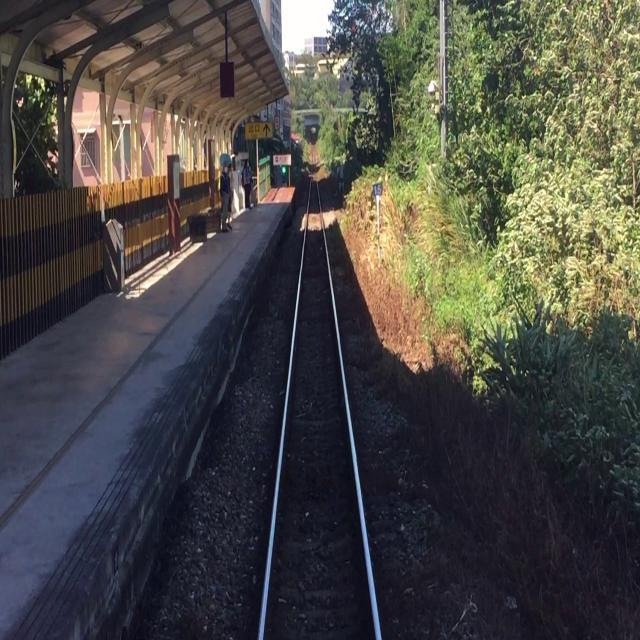track: (249, 167, 391, 640)
